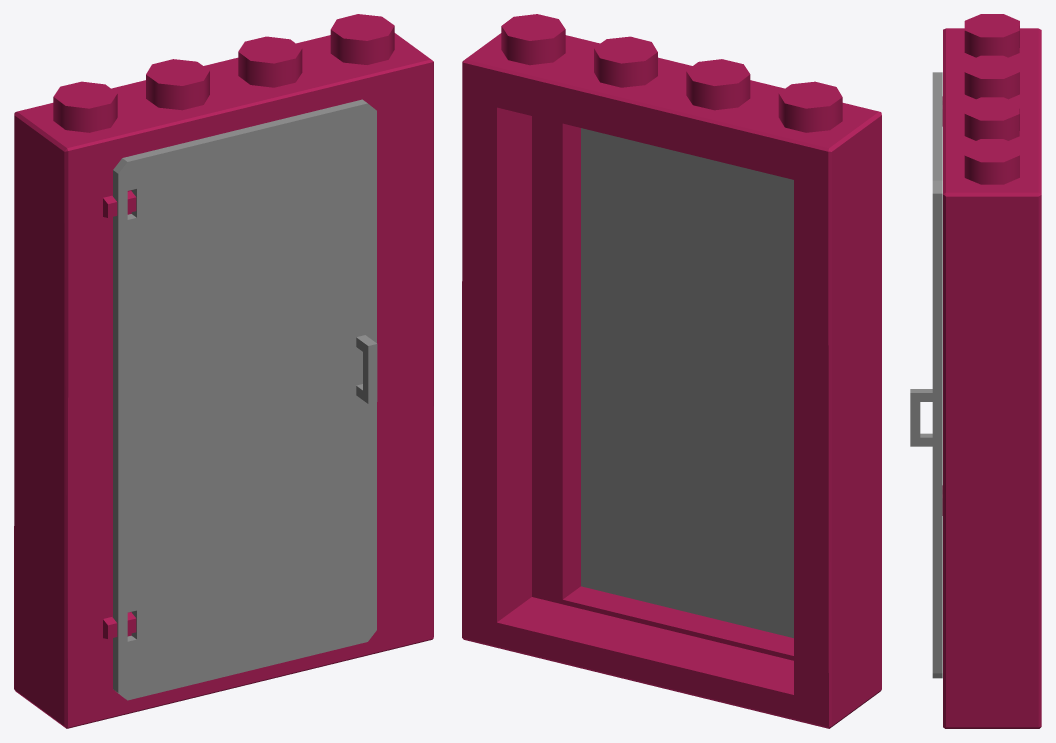
The model's file is Part_House_Door_1X4.FBX.
The picture shows the model from 3 angles, left to right: view 1: azimuth 30°, elevation 25°; view 2: azimuth 150°, elevation 25°; view 3: azimuth 270°, elevation 25°; orthographic projection. The views are drawn at different scales.
Visible parts, largest first — view 1: Part_House_Door, Part_House_Door_1X4; view 2: Part_House_Door_1X4, Part_House_Door; view 3: Part_House_Door_1X4, Part_House_Door.
Boxes of the visible parts, x1,y1,x2,y2 form: Part_House_Door: (113,99,377,700); Part_House_Door_1X4: (14,14,433,728); Part_House_Door_1X4: (462,14,881,728); Part_House_Door: (581,128,793,638); Part_House_Door_1X4: (942,14,1041,728); Part_House_Door: (910,72,942,678).
Size of the model in its own units: 400 by 625 by 133.
